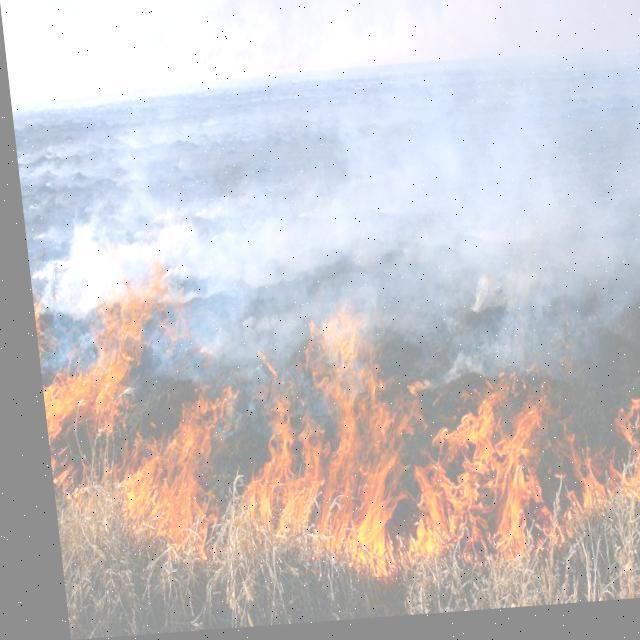Fire: (21, 203, 639, 608)
